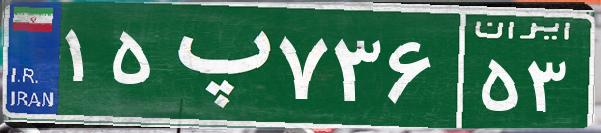1: (57, 26, 110, 107)
3: (330, 28, 385, 110), (525, 38, 570, 115)
5: (475, 38, 525, 113), (110, 28, 158, 105)
6: (385, 28, 445, 110)
7: (273, 28, 330, 110)
پ: (158, 15, 273, 115)
